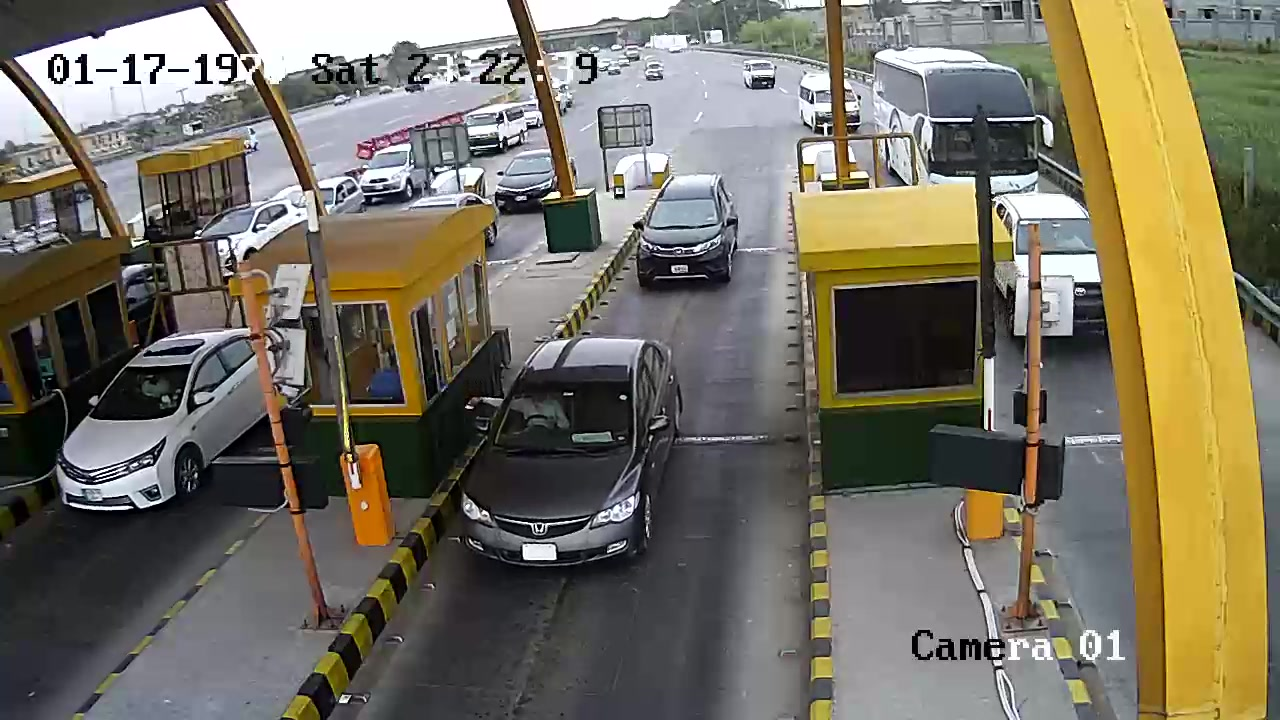F1: (449, 335, 693, 580)
